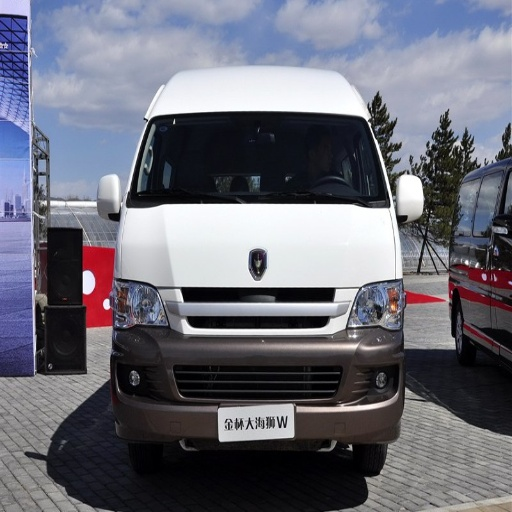front_bumper: (113, 287, 402, 450)
front_right_light: (110, 277, 167, 328)
hood: (121, 208, 396, 286)
left_mirror: (396, 176, 424, 222)
